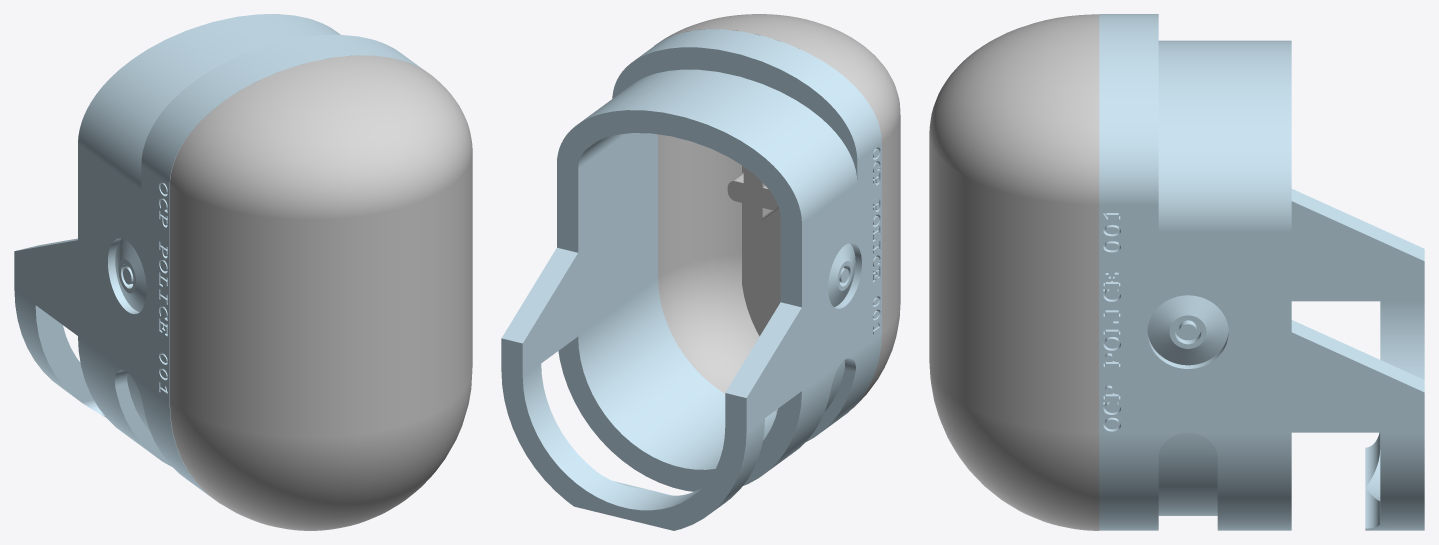
The model's file is RoboCopDemo.gltf.
3 views of the same model, side by side, from view 1: azimuth 30°, elevation 25°; view 2: azimuth 150°, elevation 25°; view 3: azimuth 270°, elevation 25° (orthographic). The views are drawn at different scales.
Visible parts, largest first — view 1: Part 4, Part 1; view 2: Part 1, Part 4, Part 2, Part 3; view 3: Part 1, Part 4.
Part boxes in pixels (left/top/right/bottom): Part 4: left=170, top=55, right=472, bottom=530; Part 1: left=14, top=14, right=421, bottom=503; Part 1: left=501, top=29, right=881, bottom=530; Part 4: left=654, top=14, right=900, bottom=411; Part 2: left=742, top=165, right=780, bottom=336; Part 3: left=727, top=169, right=778, bottom=222; Part 1: left=1099, top=14, right=1424, bottom=530; Part 4: left=929, top=14, right=1099, bottom=530.
Bounding box in the file's own units: 0.023 × 0.0355 × 0.0335.
